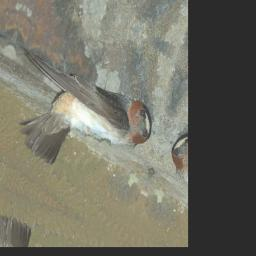Swallow: (0, 34, 159, 211)
